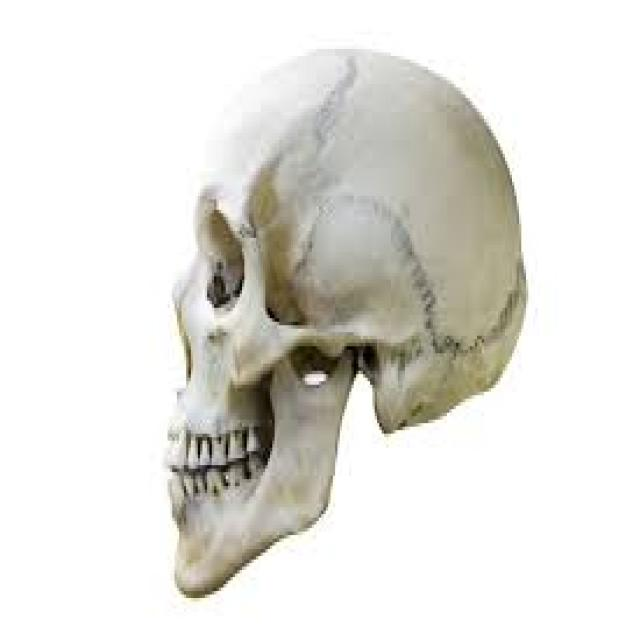skull: (146, 0, 541, 640)
